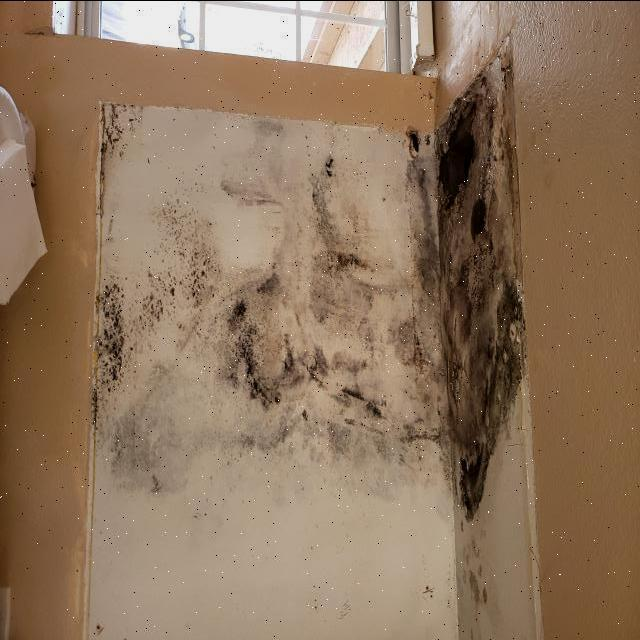dampness: (132, 105, 520, 533)
